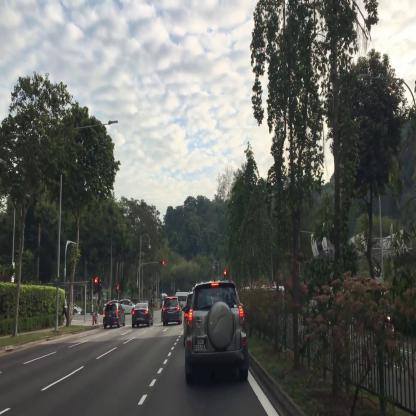red_traffic_light: (95, 276, 98, 292), (158, 260, 164, 264), (224, 270, 226, 279)
